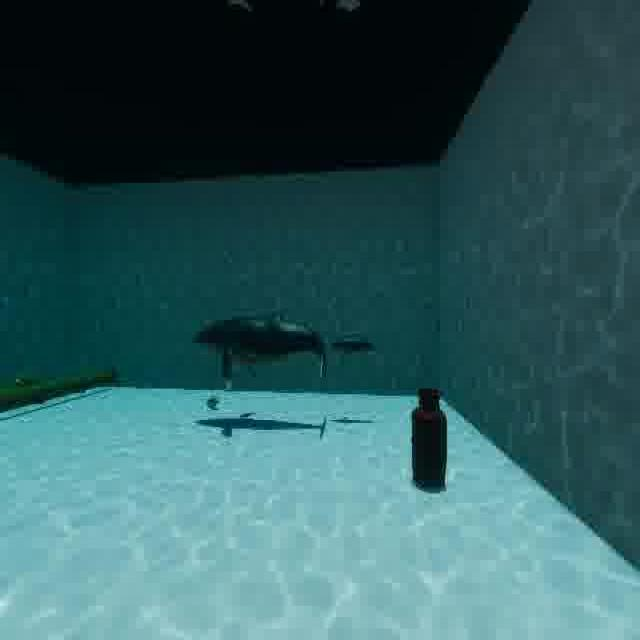Cylinder: (404, 365, 461, 512)
Pipe: (0, 356, 120, 439)
Whale: (186, 306, 334, 410), (318, 324, 381, 360)
